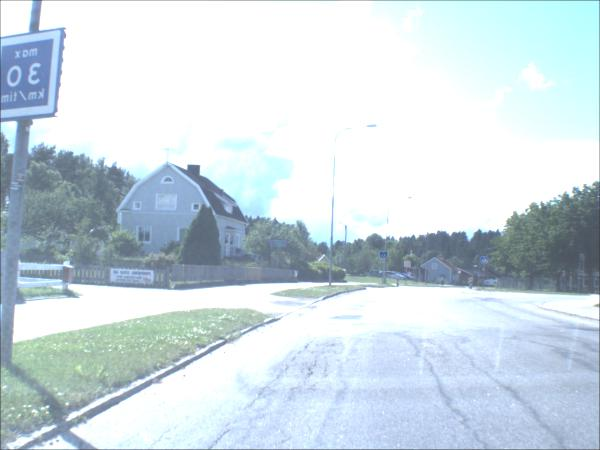NO_STOPPING_NO_STANDING: (404, 262, 412, 269)
PEDESTRIAN_CROSSING: (380, 253, 388, 260), (481, 258, 488, 265)
